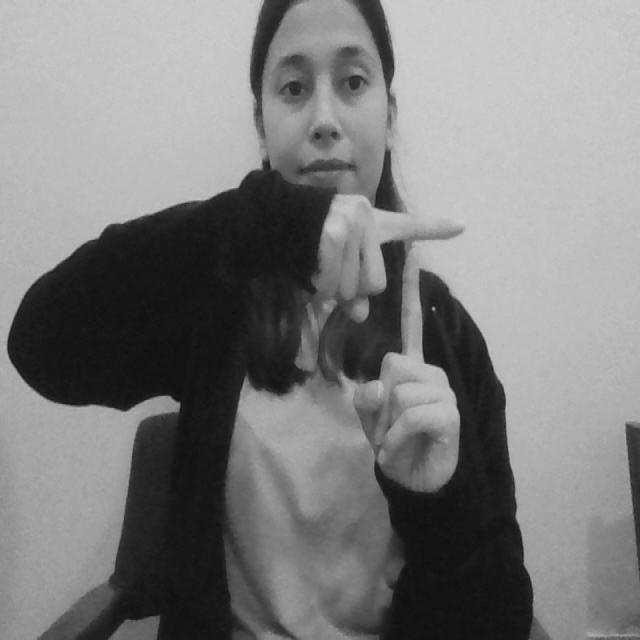Tesekkurler: (361, 200, 471, 392)
